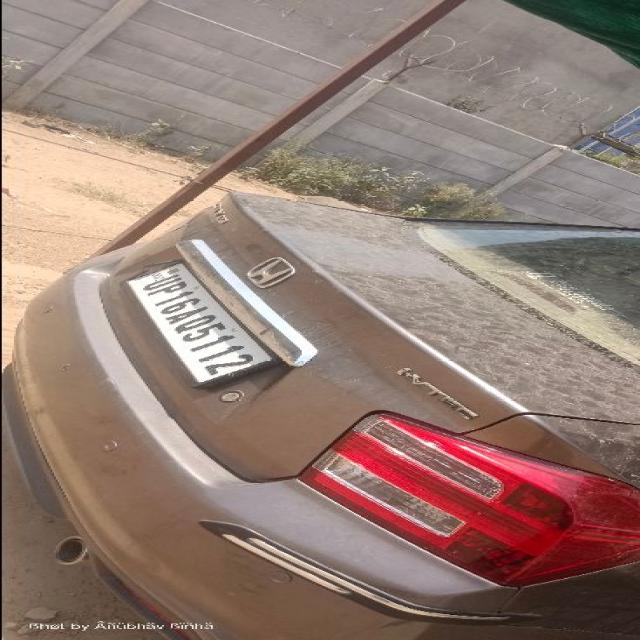license_plate: (5, 190, 637, 638), (119, 258, 282, 388)
